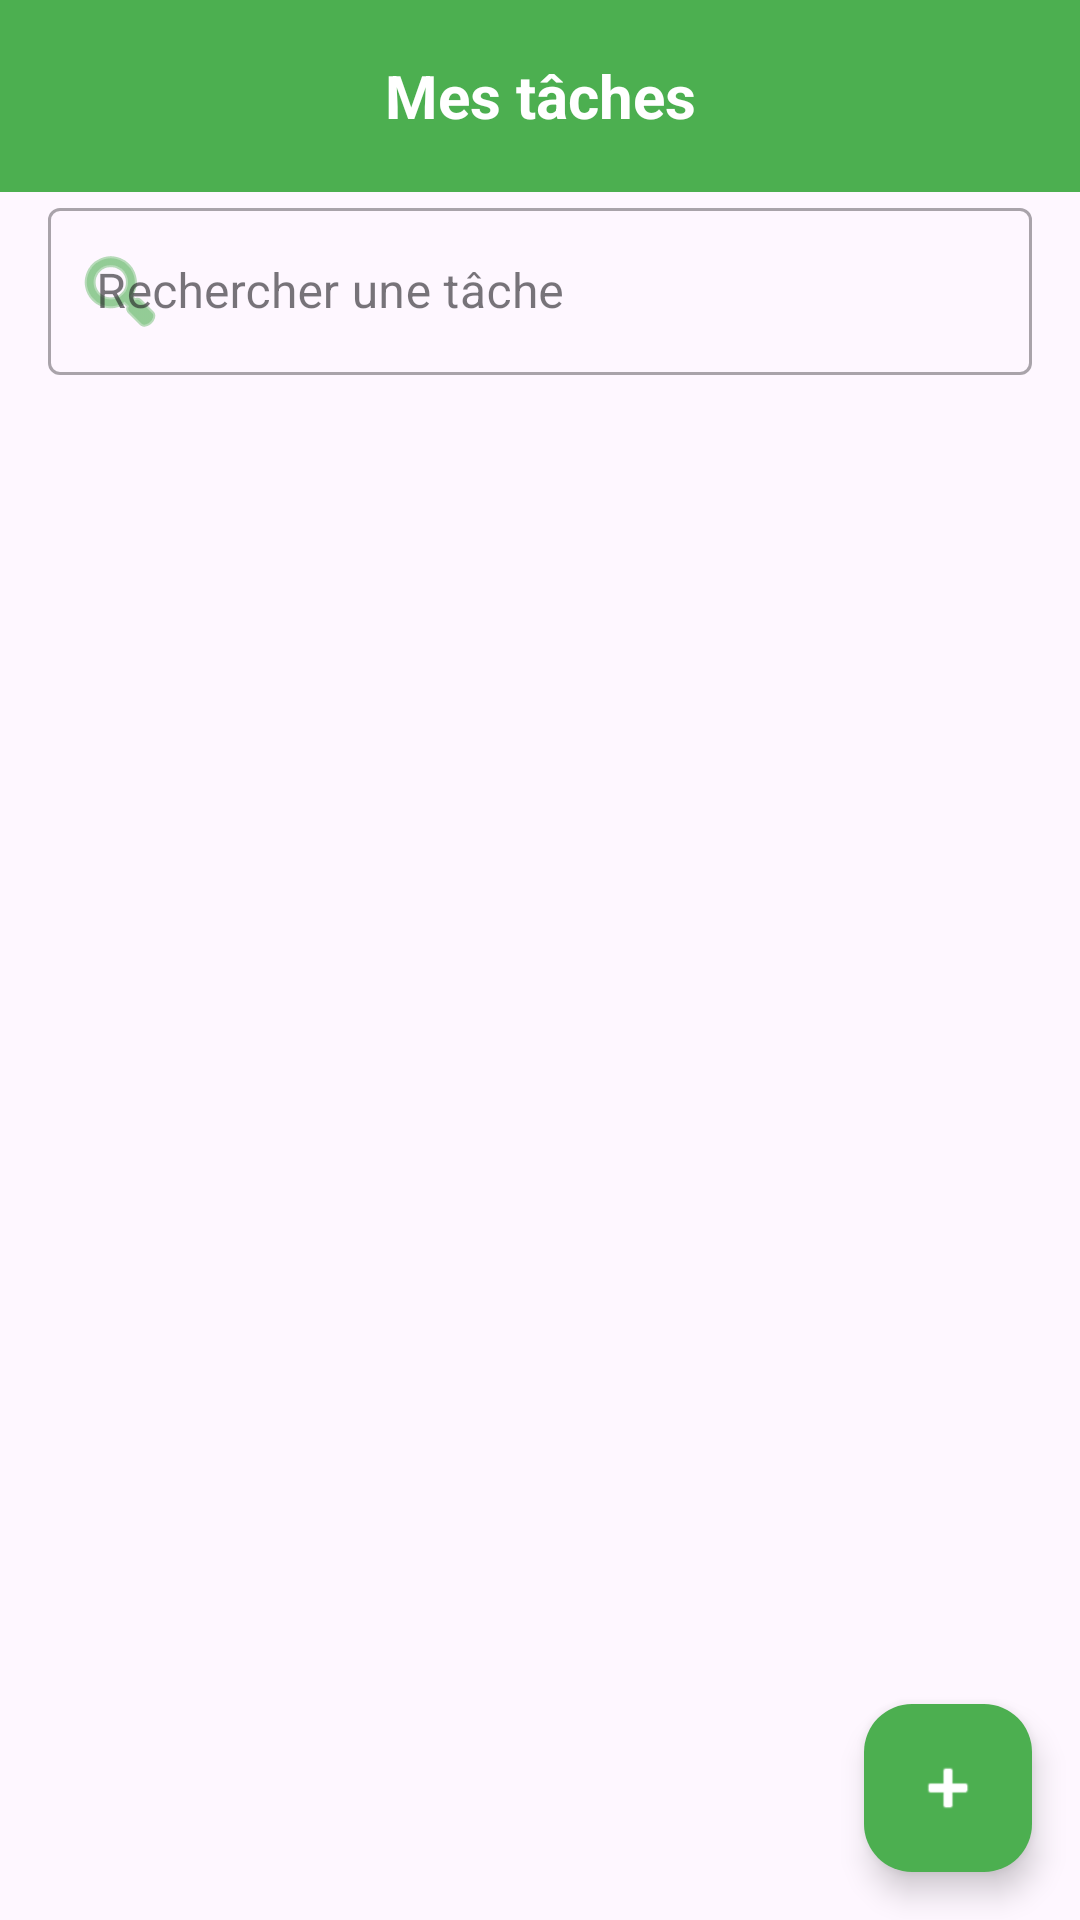

Icons on this 1080*1920 Android screen, each with its box as [x1=x1, y1=y1, x2=x2, y2=y2]:
Ajouter une tâche: [x1=864, y1=1704, x2=1032, y2=1872]
